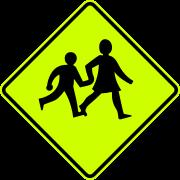School Ahead: (22, 23, 173, 159)
